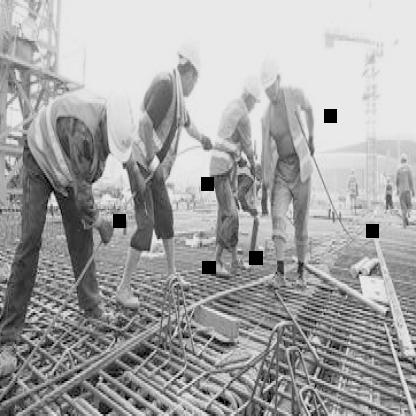helmet: (104, 86, 142, 170), (174, 27, 204, 101), (254, 43, 285, 107), (242, 72, 264, 120)
